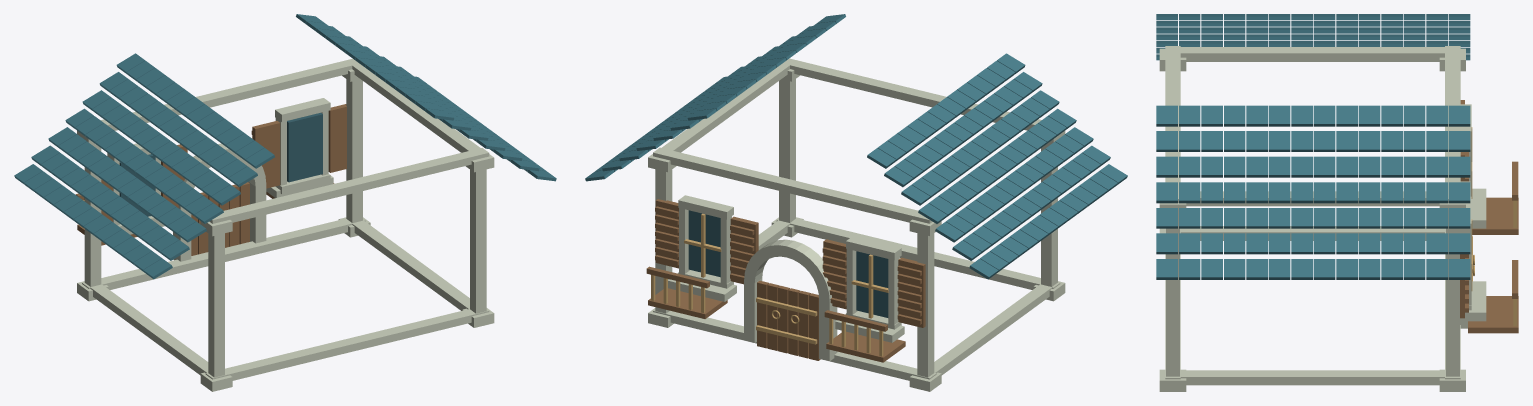
Rendered from warehouse.glb.
3 views of the same model, side by side, from view 1: azimuth 30°, elevation 25°; view 2: azimuth 150°, elevation 25°; view 3: azimuth 270°, elevation 25° (orthographic). The views are drawn at different scales.
Parts seen in each view (by area): view 1: Recessed azure arcade glazing; view 2: Recessed azure arcade glazing; view 3: Recessed azure arcade glazing.
Part boxes in pixels (x1,y1,x2,y2): Recessed azure arcade glazing: [14, 14, 556, 391]; Recessed azure arcade glazing: [585, 14, 1127, 391]; Recessed azure arcade glazing: [1156, 14, 1518, 391].
Bounding box in the file's own units: 6.79 × 3.6 × 4.66.
